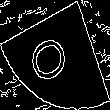O_NE: (30, 25, 80, 85)
